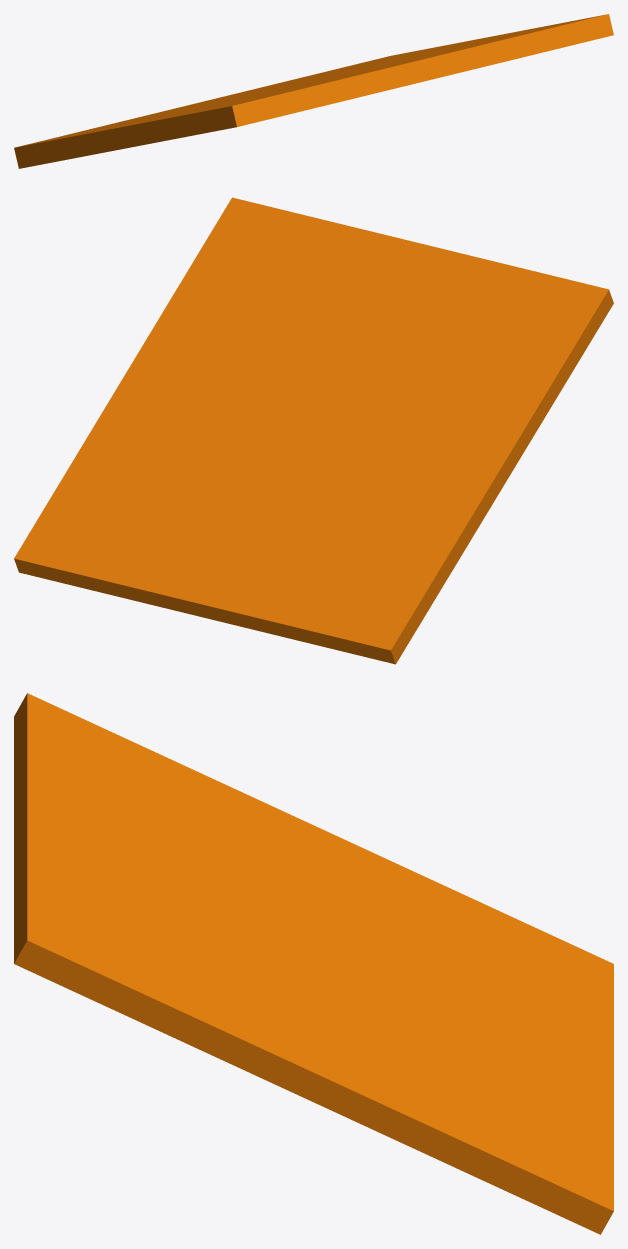
The model's file is RampRampFBX.fbx.
3 views of the same model, one above another, from view 1: azimuth 30°, elevation 25°; view 2: azimuth 150°, elevation 25°; view 3: azimuth 270°, elevation 25° (orthographic). The views are drawn at different scales.
Parts seen in each view (by area): view 1: Cube__6_; view 2: Cube__6_; view 3: Cube__6_.
Boxes of the visible parts, x1,y1,x2,y2 form: Cube__6_: [14, 14, 613, 168]; Cube__6_: [14, 197, 613, 664]; Cube__6_: [14, 693, 613, 1234].
Size of the model in its own units: 200 by 111 by 205.
